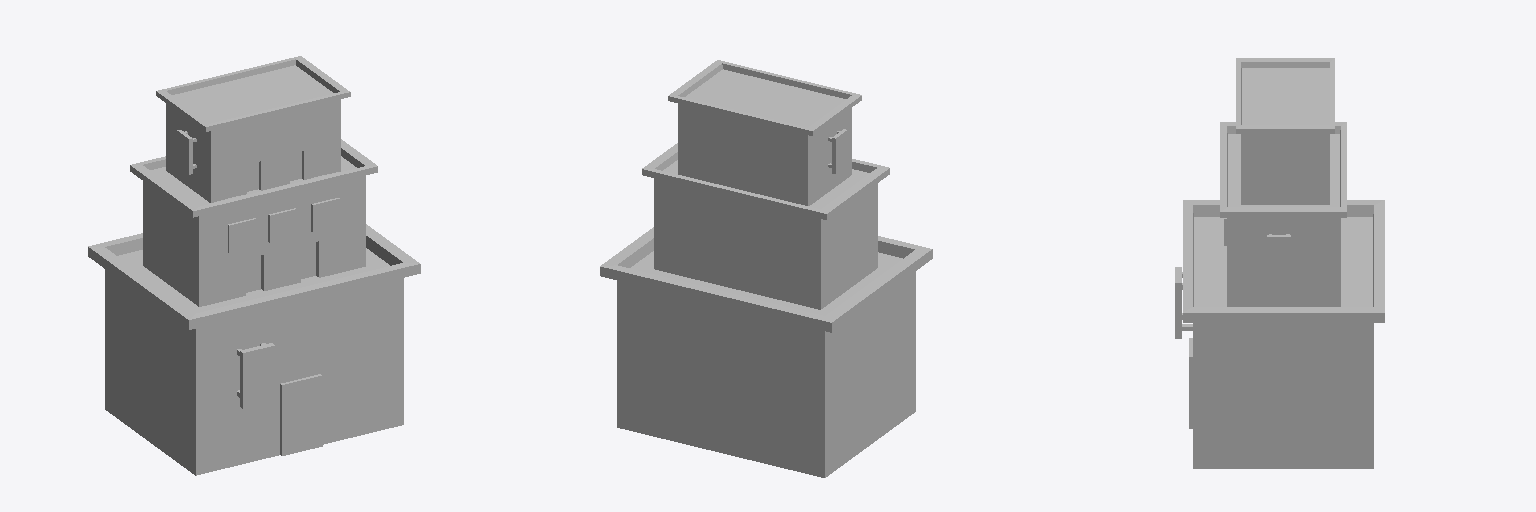
File: Building7.obj
3 views of the same model, side by side, from view 1: azimuth 30°, elevation 25°; view 2: azimuth 150°, elevation 25°; view 3: azimuth 270°, elevation 25° (orthographic).
Parts seen in each view (by area): view 1: Building7_Cube.009; view 2: Building7_Cube.009; view 3: Building7_Cube.009.
Part boxes in pixels (x1,y1,x2,y2): Building7_Cube.009: (88, 56, 420, 475); Building7_Cube.009: (600, 60, 932, 477); Building7_Cube.009: (1175, 58, 1384, 468).
Bounding box in the file's own units: 13.56 × 18.18 × 10.6.